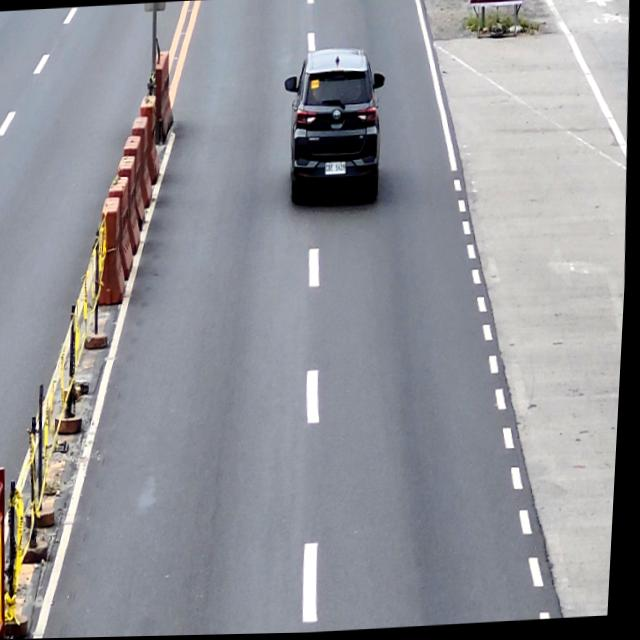Car: (279, 48, 389, 210)
License-Plate: (324, 161, 350, 177)
